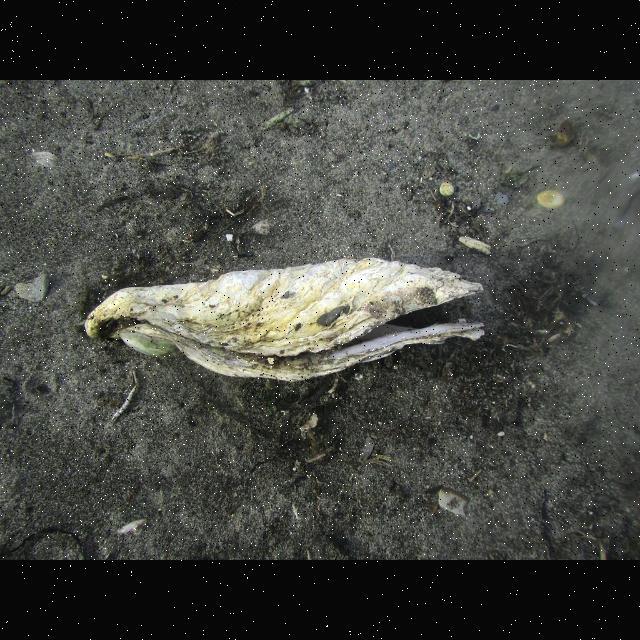Oyster-Open: (85, 255, 488, 383)
